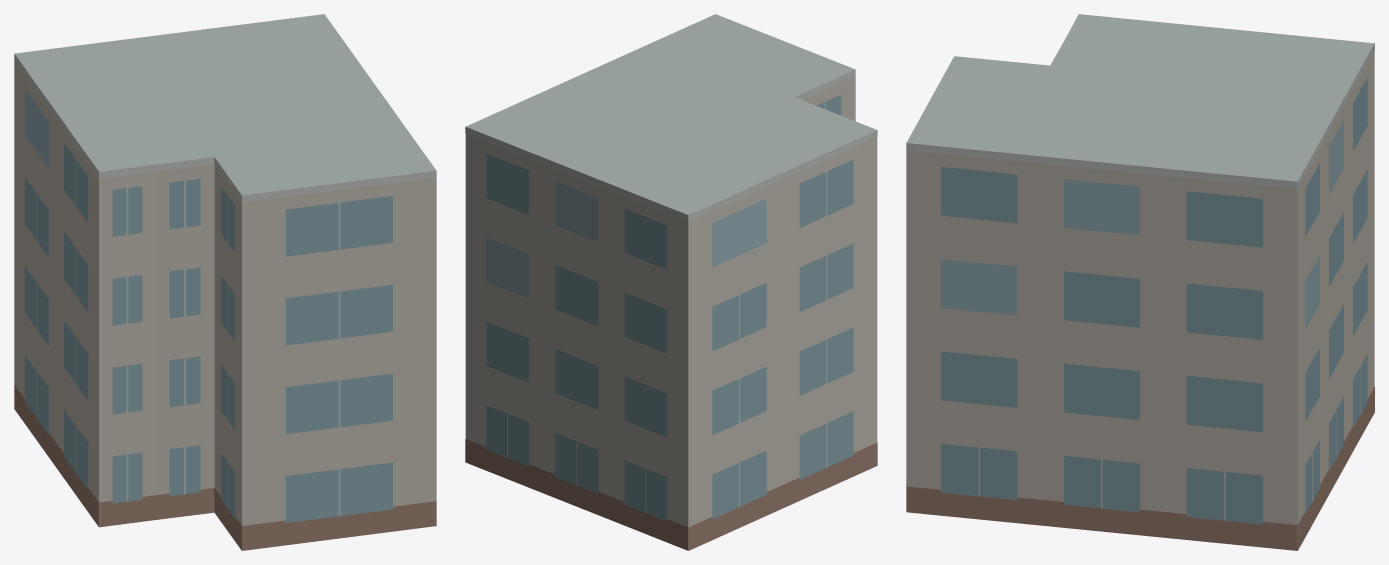
Rendered from residential-80d16b8d-0e9c-4664-9e45-304ca1782e5a.glb.
3 renders of one model, left to right at view 1: azimuth 30°, elevation 25°; view 2: azimuth 150°, elevation 25°; view 3: azimuth 270°, elevation 25°, orthographic. The views are drawn at different scales.
Parts seen in each view (by area): view 1: residential-80d16b8d-0e9c-4664-9e45-304ca1782e5a.tmp; view 2: residential-80d16b8d-0e9c-4664-9e45-304ca1782e5a.tmp; view 3: residential-80d16b8d-0e9c-4664-9e45-304ca1782e5a.tmp.
Boxes of the visible parts, x1=… form: residential-80d16b8d-0e9c-4664-9e45-304ca1782e5a.tmp: x1=14, y1=14, x2=436, y2=550; residential-80d16b8d-0e9c-4664-9e45-304ca1782e5a.tmp: x1=465, y1=14, x2=877, y2=550; residential-80d16b8d-0e9c-4664-9e45-304ca1782e5a.tmp: x1=906, y1=14, x2=1374, y2=550.
Size of the model in its own units: 11.89 by 12.2 by 14.04.
